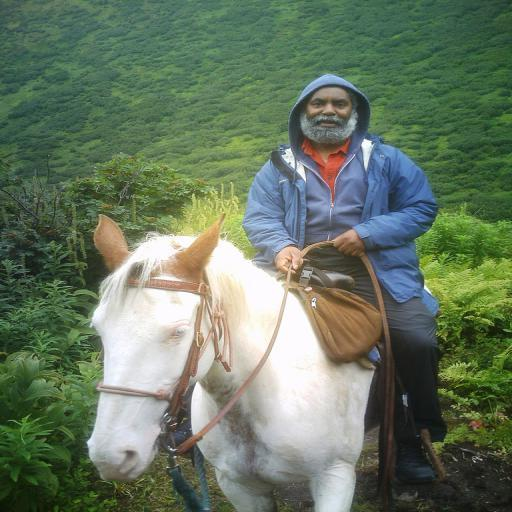horse: (85, 210, 435, 512)
